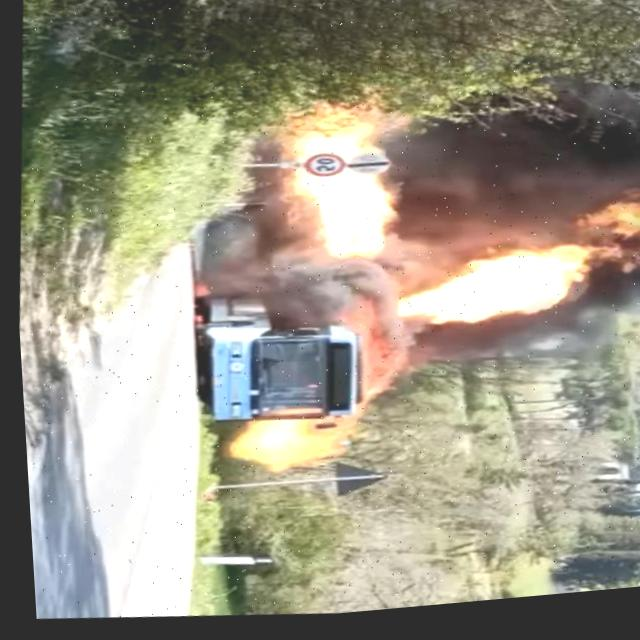Fire: (392, 190, 640, 354), (267, 106, 396, 273), (217, 396, 362, 489)
Smoke: (387, 92, 617, 260), (286, 256, 424, 371)
